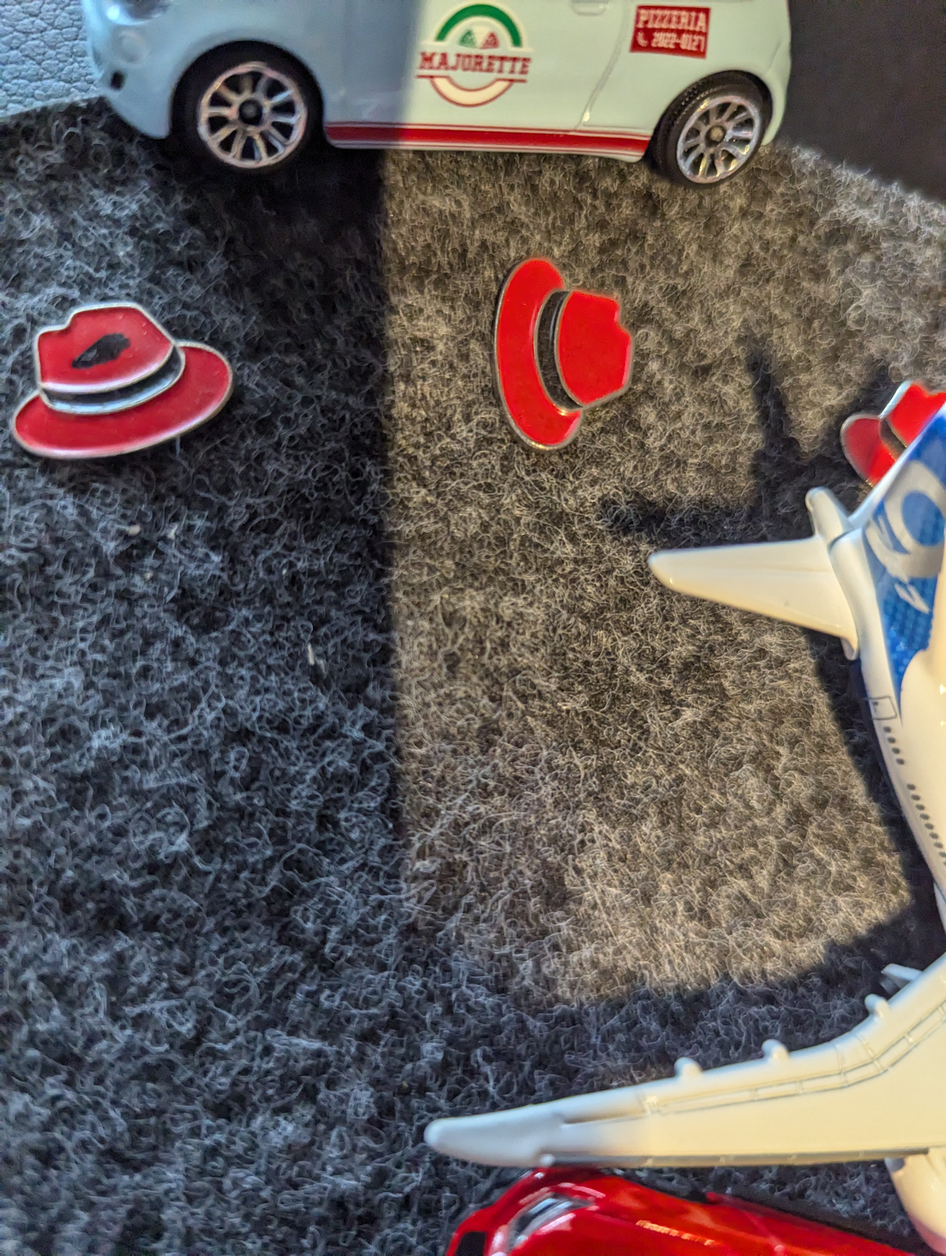Car: (62, 0, 812, 208)
Red-Hat: (0, 264, 249, 495), (471, 238, 655, 475), (812, 343, 946, 525)
Scratch: (51, 319, 157, 387)
